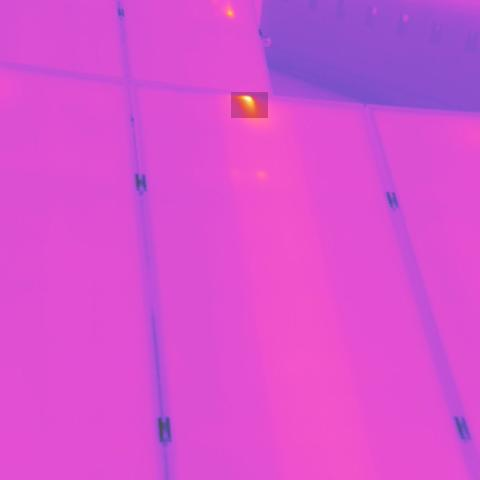fault: (231, 92, 268, 118)
